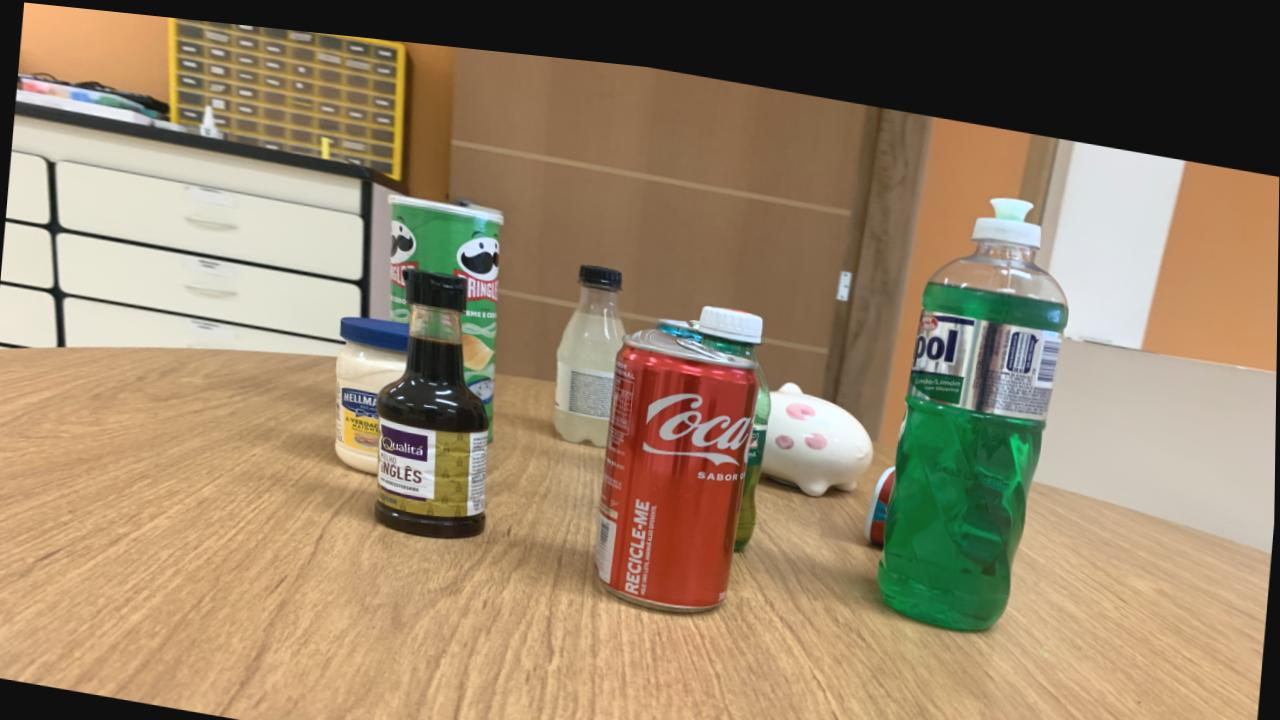Coke-Drinks: (595, 315, 759, 596)
Detergent-Cleanup_Items: (879, 176, 1068, 609)
English_Sauce-Pantry_Items: (376, 261, 490, 528)
Guarana-Drinks: (734, 350, 772, 534), (697, 290, 763, 344)
Mayonnaise-Pantry_Items: (335, 308, 409, 465)
Pig_Safe-Miscellaneous: (763, 364, 874, 478)
Pringles-Snacks: (389, 185, 504, 405)
Soda-Drinks: (553, 251, 626, 434)
Tuna_Can-Pantry_Items: (865, 446, 895, 527)
